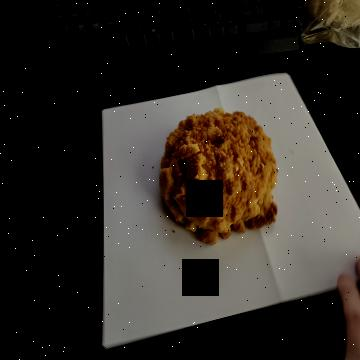soboru_bread: (161, 109, 281, 245)
